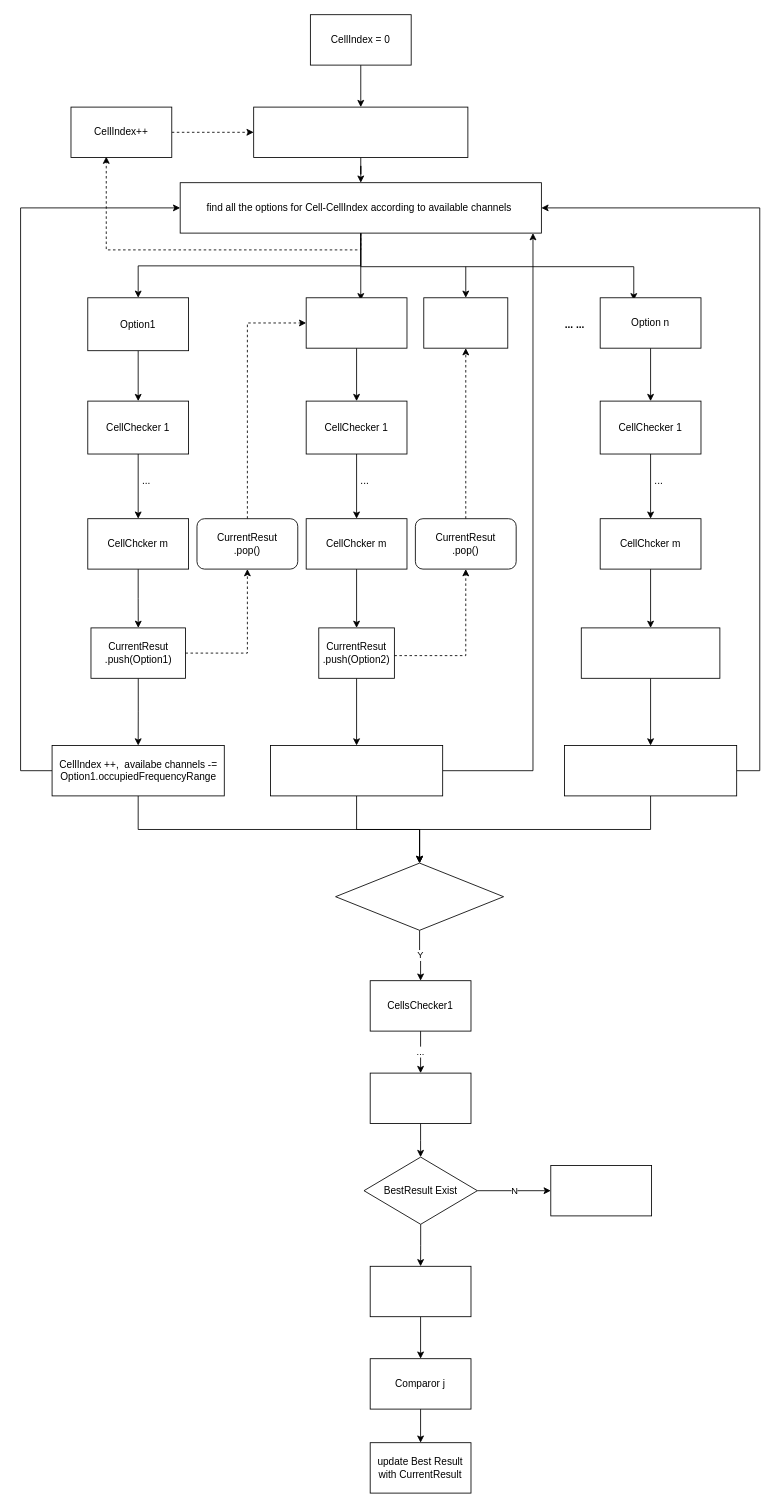
Image size: 781x1508. Some labels were removed from this diagram. Each missing label, with the centre of its shape:
"availabe channels initialized" belongs at (x=360, y=132).
"CellIndex ++, availabe channels -= Option n.occupiedFrequencyRange" belongs at (x=650, y=770).
"CellIndex ++, availabe channels -= Option2.occupiedFrequencyRange" belongs at (x=356, y=770).
"CellIndex == Cells account" belongs at (x=419, y=896).
"CellsCheckerk" belongs at (x=420, y=1098).
"Comparor1" belongs at (x=420, y=1291).
"CurrentResut.push(Option n)" belongs at (x=650, y=652).
"Option 3" belongs at (x=465, y=322).
"Option2" belongs at (x=356, y=322).
"Save CurrentResult to Best Result" belongs at (x=601, y=1190).
